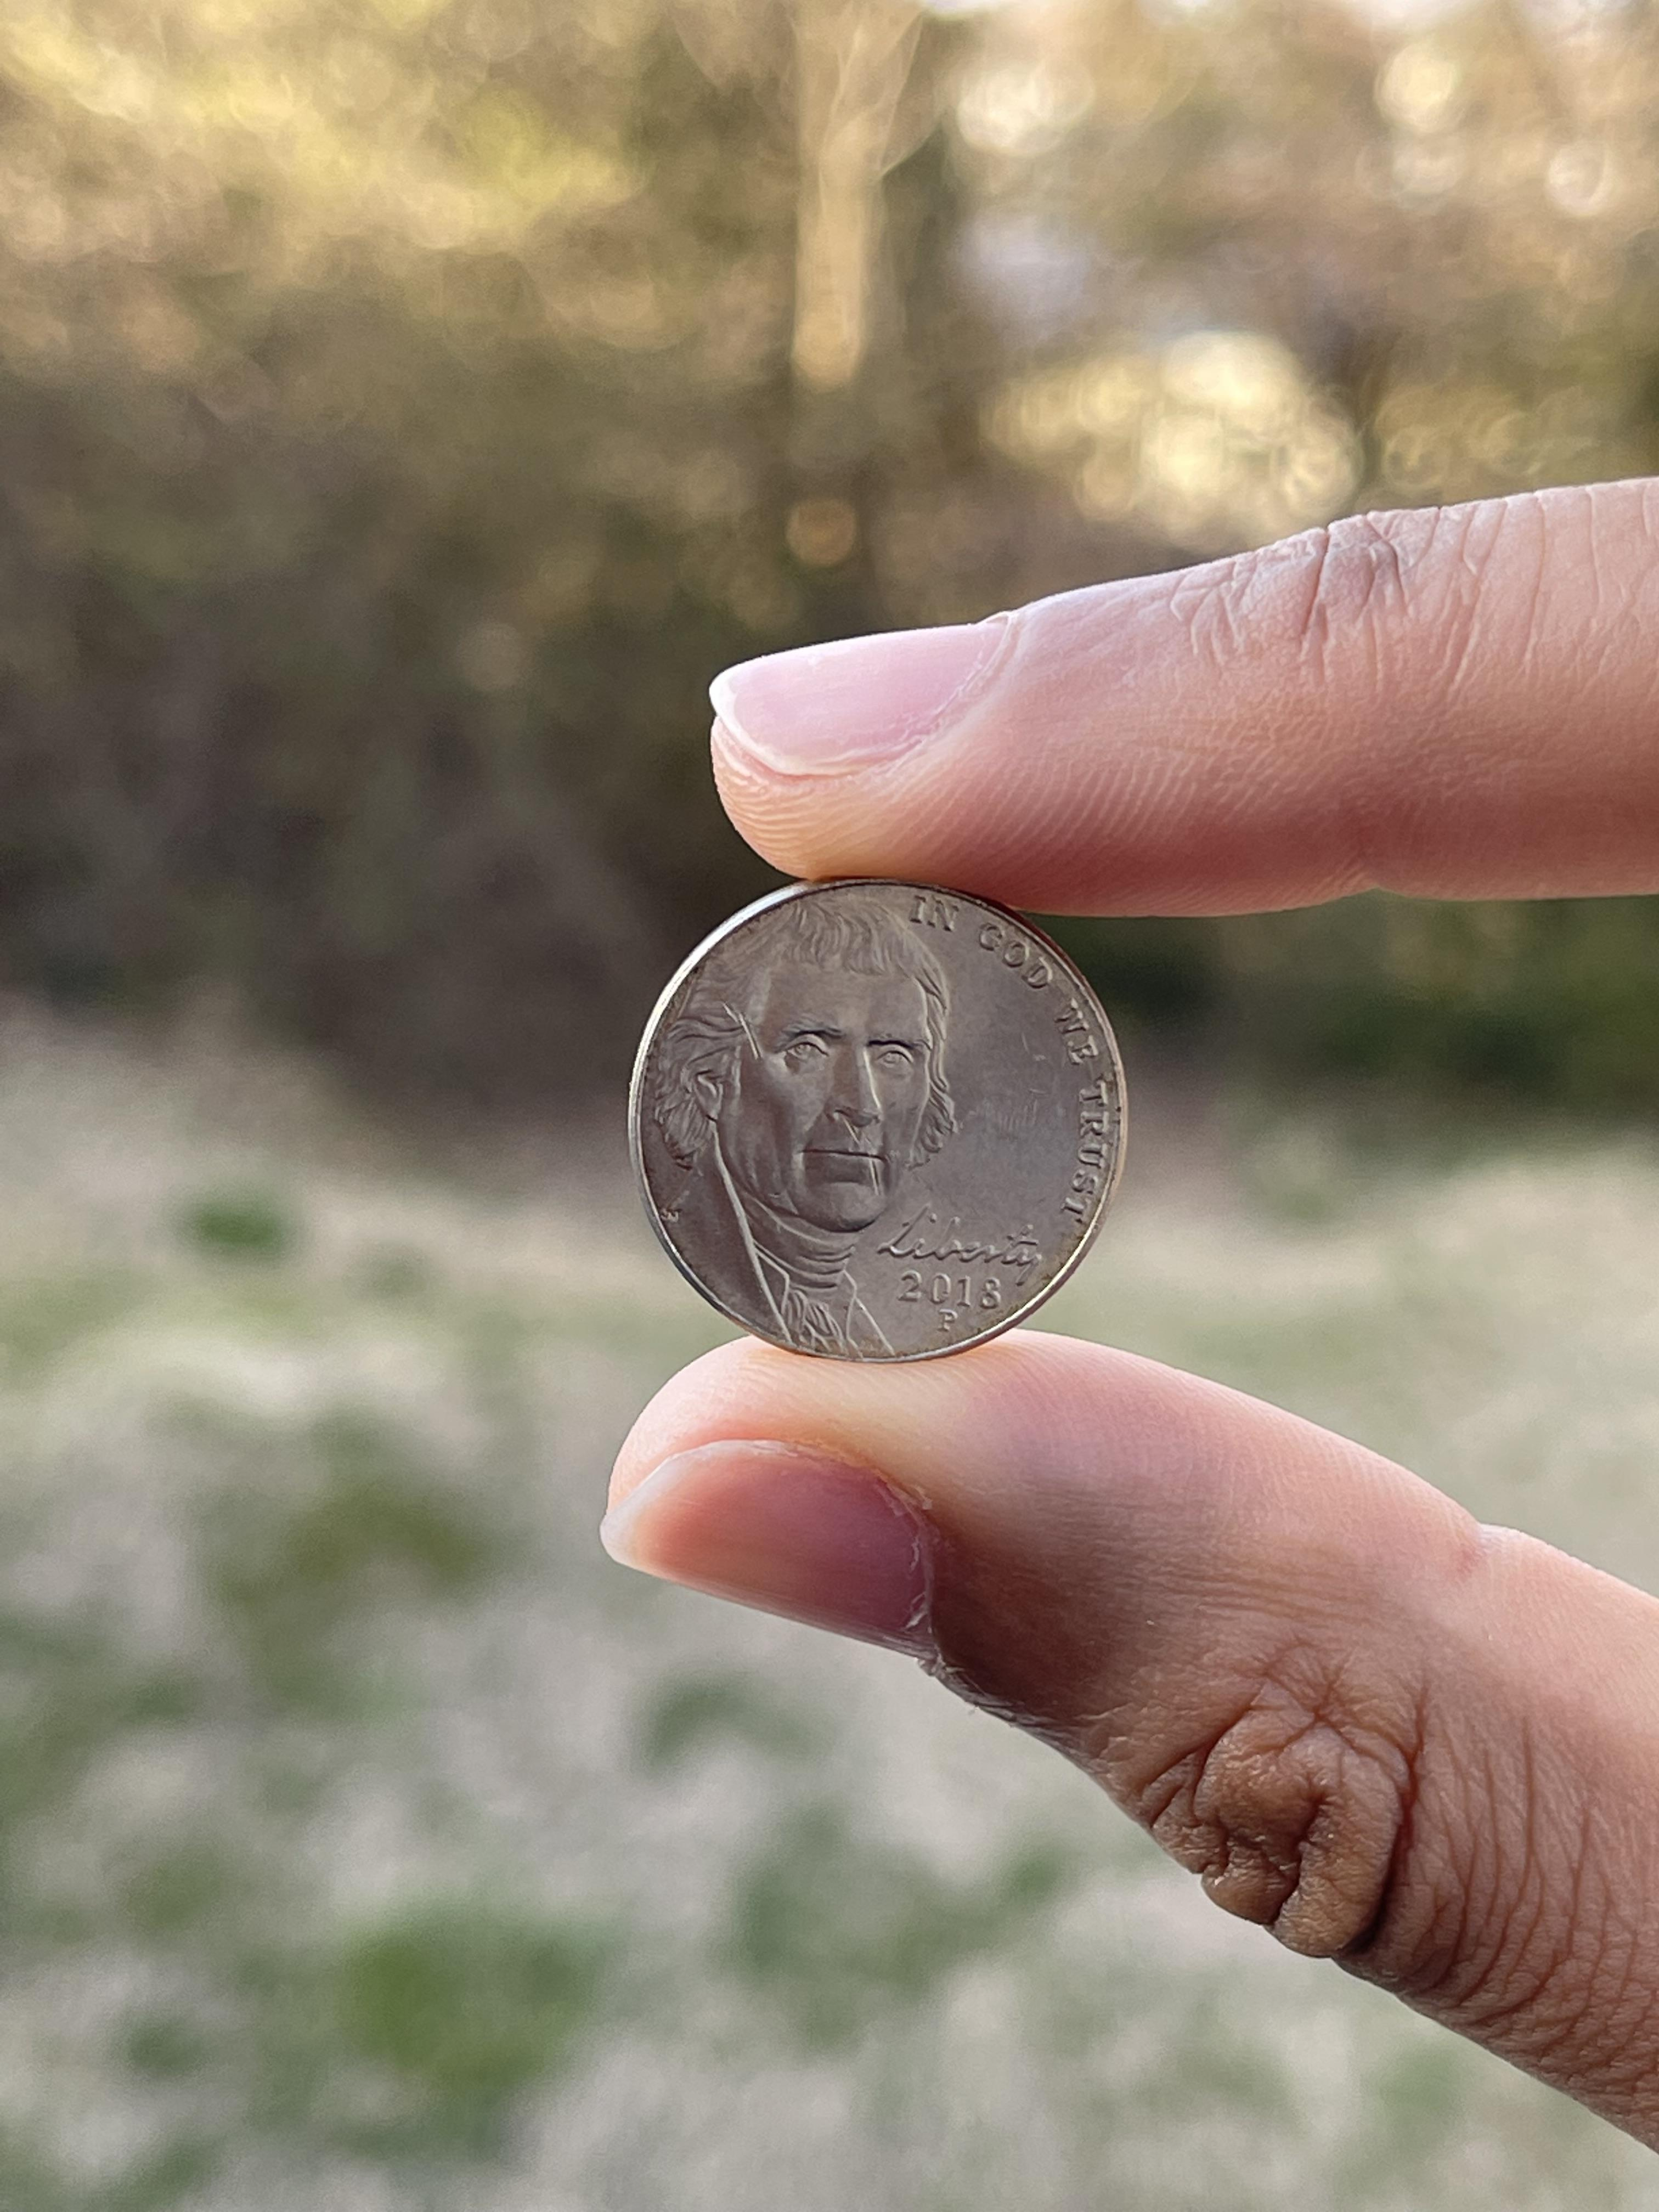Nickel: (626, 876, 1133, 1369)
